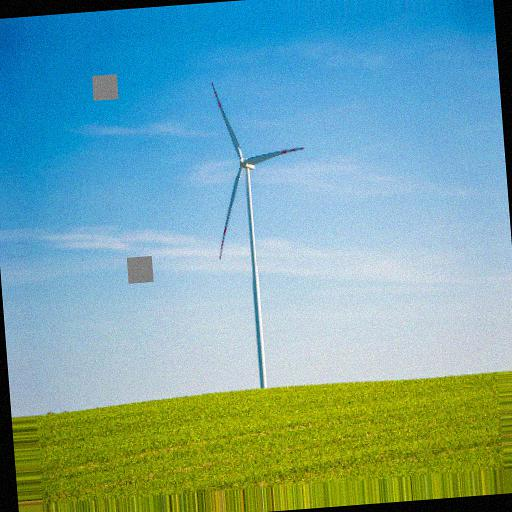wind turbine: (210, 81, 307, 385)
